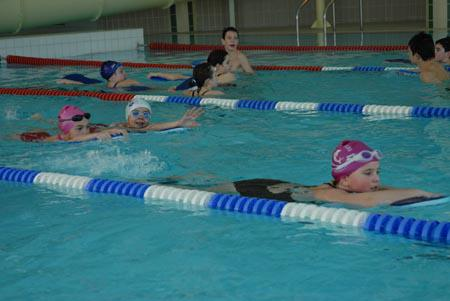human: (206, 139, 439, 213), (93, 92, 210, 132), (14, 104, 99, 148), (405, 31, 450, 89), (214, 25, 255, 73), (98, 58, 136, 91), (187, 62, 223, 96), (205, 48, 237, 81), (433, 31, 450, 66)
